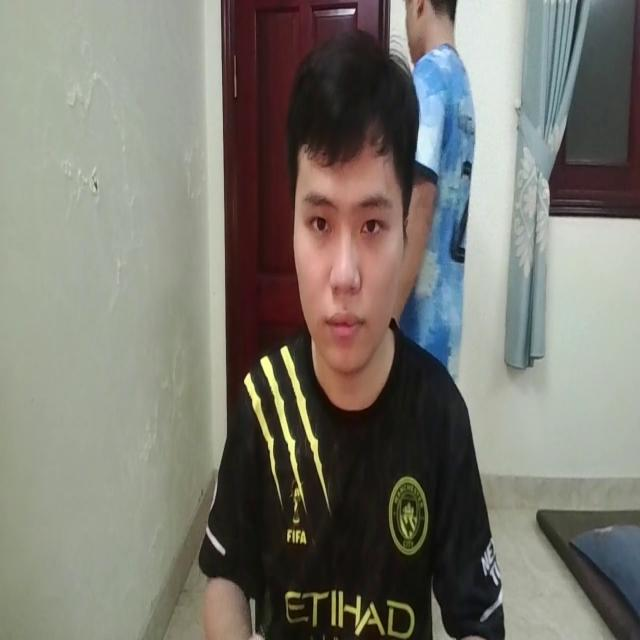extra_person: (392, 0, 478, 387)
student: (180, 24, 507, 640)
